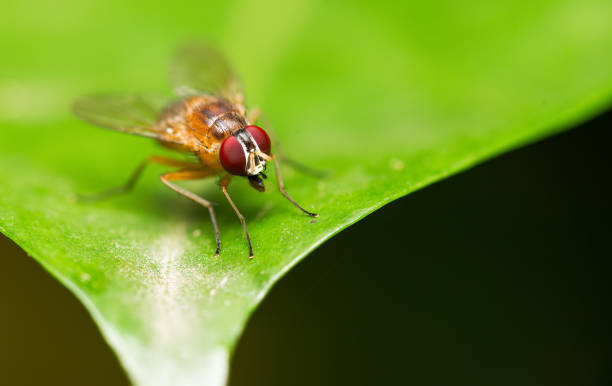Fruit fly: (93, 57, 359, 246)
